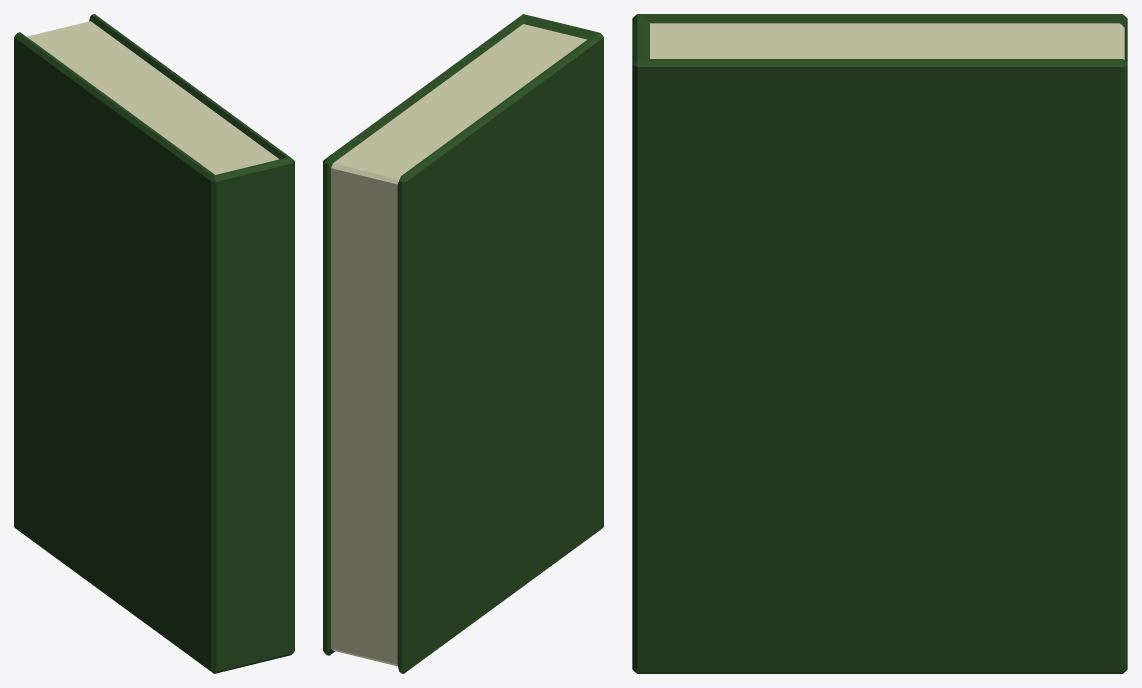
Rendered from BOOK_09.fbx.
3 views of the same model, side by side, from view 1: azimuth 30°, elevation 25°; view 2: azimuth 150°, elevation 25°; view 3: azimuth 270°, elevation 25° (orthographic). The views are drawn at different scales.
Visible parts, largest first — view 1: BOOK_09; view 2: BOOK_09; view 3: BOOK_09.
Boxes of the visible parts, x1,y1,x2,y2 form: BOOK_09: (14,14,294,673); BOOK_09: (323,14,603,673); BOOK_09: (632,14,1127,673).
Bounding box in the file's own units: 2.23 × 12.62 × 9.24.
